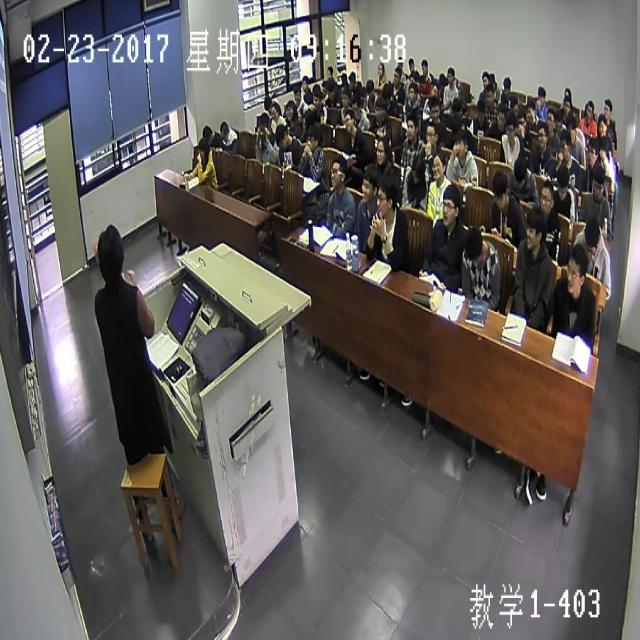person: (94, 223, 128, 279), (377, 169, 398, 218), (566, 244, 586, 293), (465, 225, 485, 268), (442, 182, 461, 224), (525, 206, 542, 248), (584, 217, 599, 260), (491, 168, 506, 209), (361, 168, 378, 202), (590, 163, 604, 202), (541, 179, 554, 216), (453, 130, 468, 160), (331, 156, 345, 188), (556, 164, 569, 198), (514, 154, 526, 188), (432, 154, 446, 180), (406, 111, 418, 140), (306, 122, 318, 150), (536, 118, 547, 148), (258, 111, 270, 138), (197, 136, 209, 162), (275, 122, 288, 146), (376, 138, 388, 164), (585, 138, 597, 164), (565, 115, 576, 143), (598, 136, 609, 164), (217, 117, 229, 142), (560, 129, 570, 158), (344, 109, 356, 133), (200, 123, 213, 144), (284, 100, 296, 122), (476, 99, 486, 125), (496, 104, 506, 130), (302, 110, 314, 131), (451, 115, 462, 137), (382, 80, 392, 104), (373, 99, 385, 119), (586, 98, 595, 124), (351, 94, 361, 117), (430, 99, 440, 122), (426, 125, 436, 148), (596, 115, 606, 137), (506, 115, 514, 142), (546, 106, 555, 130), (364, 78, 374, 99), (446, 66, 456, 87), (562, 95, 572, 116), (567, 108, 577, 129), (602, 99, 612, 120), (452, 98, 462, 118), (481, 69, 491, 89), (536, 84, 546, 104), (326, 78, 335, 100), (408, 72, 417, 94), (270, 101, 280, 120), (292, 86, 302, 105), (263, 92, 272, 113), (485, 84, 493, 107), (313, 90, 322, 110), (347, 70, 356, 90), (392, 66, 402, 84), (406, 83, 416, 101), (502, 76, 512, 94), (341, 85, 349, 107), (518, 111, 526, 133), (509, 95, 518, 114), (488, 71, 496, 92), (526, 100, 534, 121), (431, 80, 440, 98), (326, 62, 334, 82), (564, 85, 572, 105), (582, 99, 590, 119), (300, 72, 308, 90), (554, 110, 562, 128), (421, 57, 428, 77), (320, 80, 328, 96), (375, 61, 383, 77), (312, 83, 319, 100), (340, 72, 348, 86), (396, 54, 403, 70), (408, 56, 415, 72), (438, 70, 444, 88)
